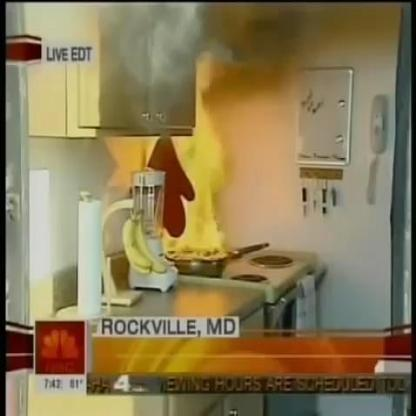fire: (152, 54, 234, 262)
